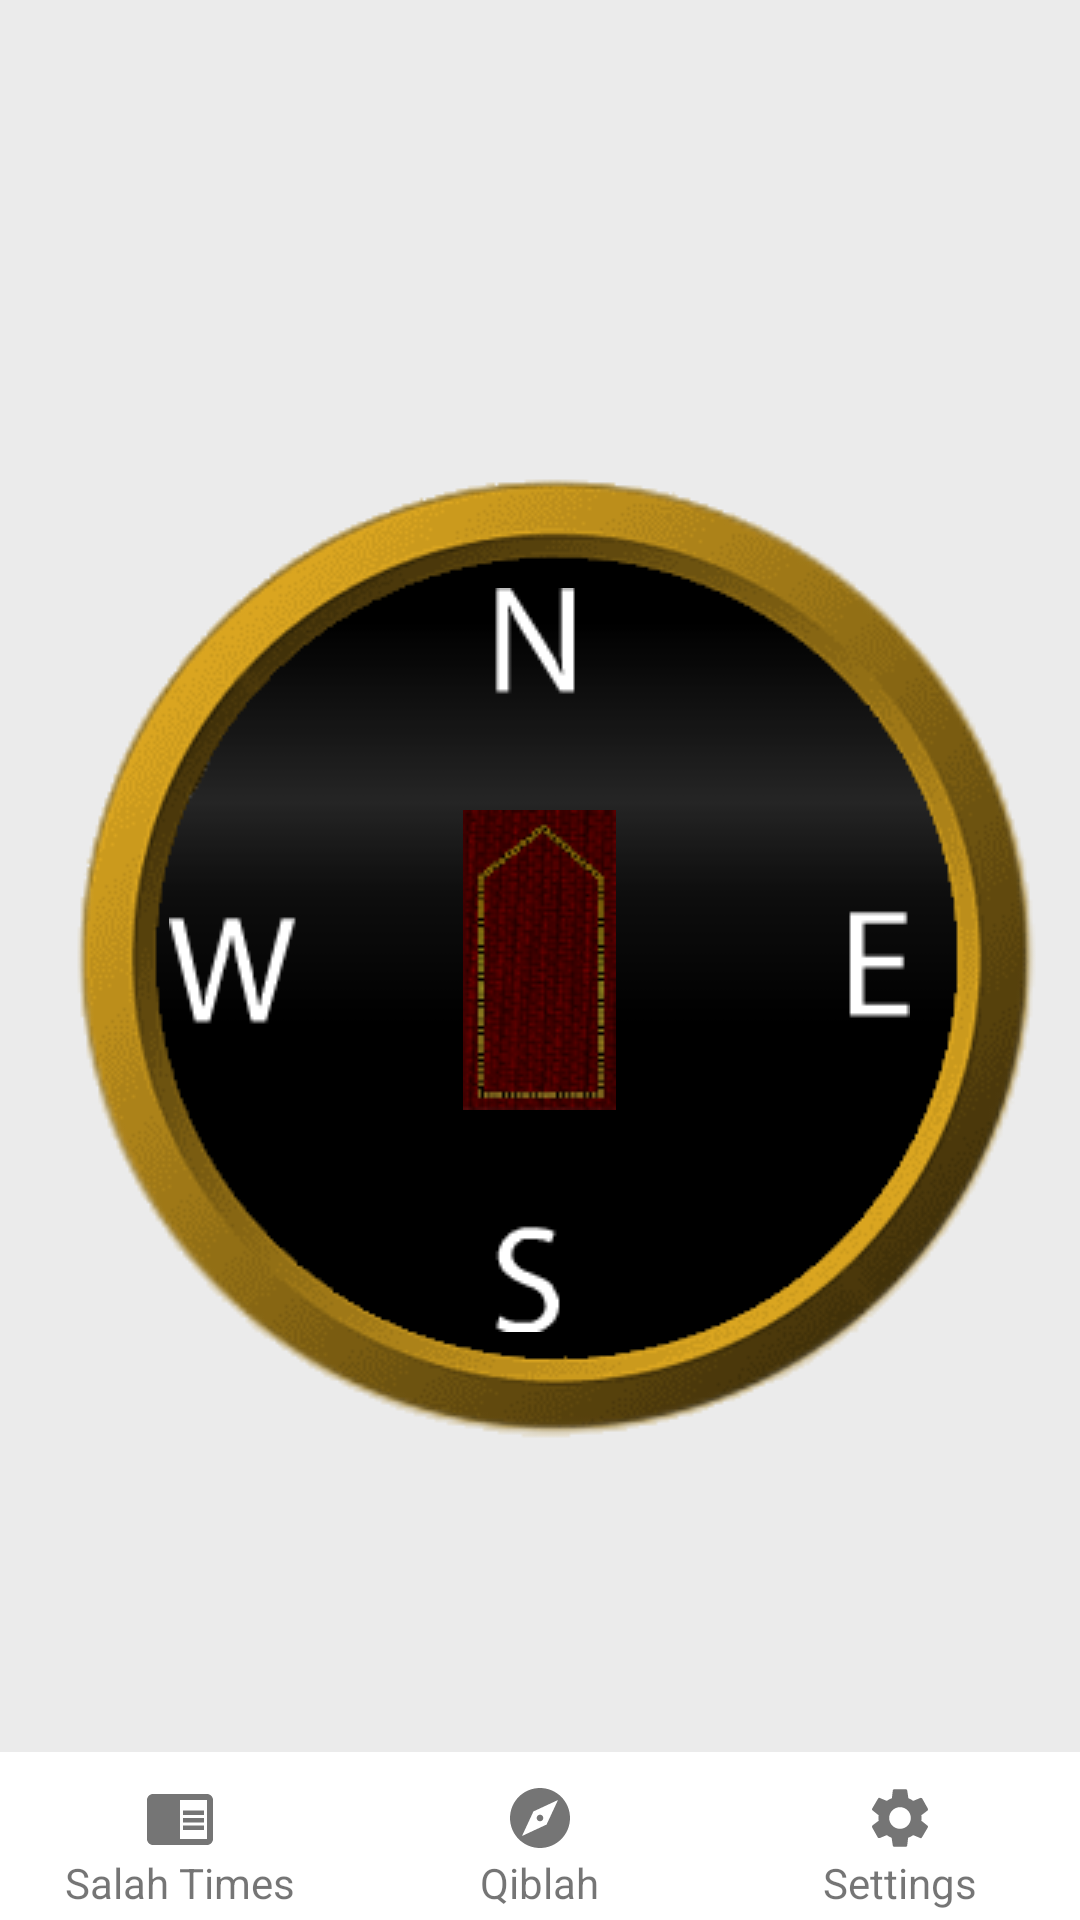

Icons on this 1080x1920 Android screen, each with the point to tap as point (x, y):
compass: point (540, 1818)
salah mat: point (539, 960)
